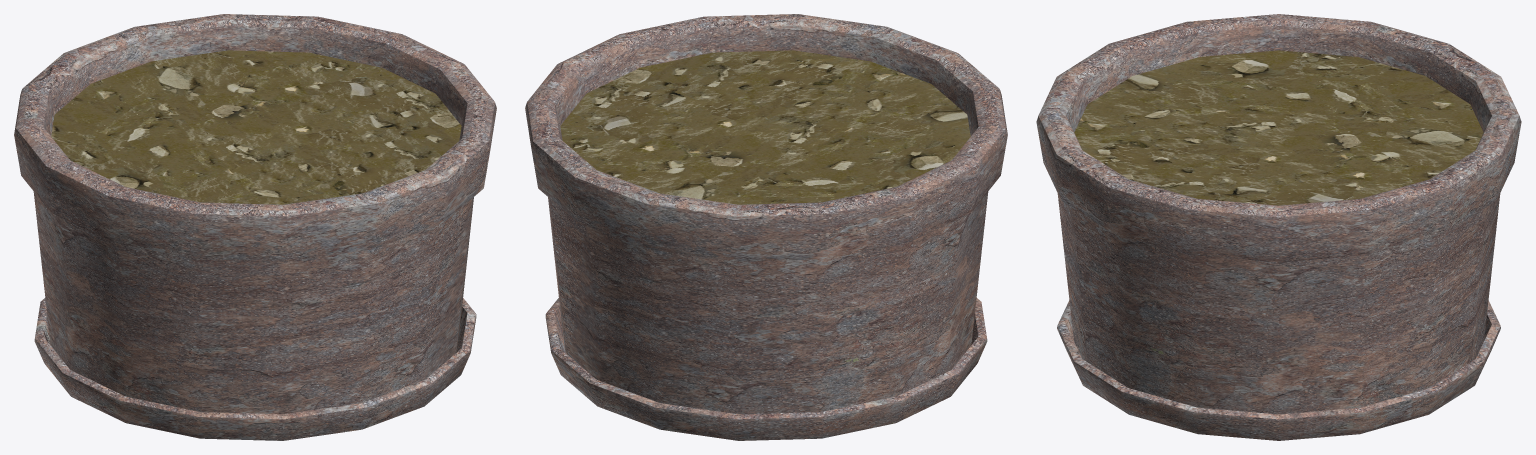
File: plant-pot.fbx
The picture shows the model from 3 angles, left to right: view 1: azimuth 30°, elevation 25°; view 2: azimuth 150°, elevation 25°; view 3: azimuth 270°, elevation 25°; orthographic projection.
Parts seen in each view (by area): view 1: Mesh; view 2: Mesh; view 3: Mesh.
Part boxes in pixels (x1=…): Mesh: x1=14, y1=14, x2=496, y2=440; Mesh: x1=525, y1=14, x2=1007, y2=440; Mesh: x1=1036, y1=14, x2=1521, y2=440.
Bounding box in the file's own units: 114 × 62 × 114.
